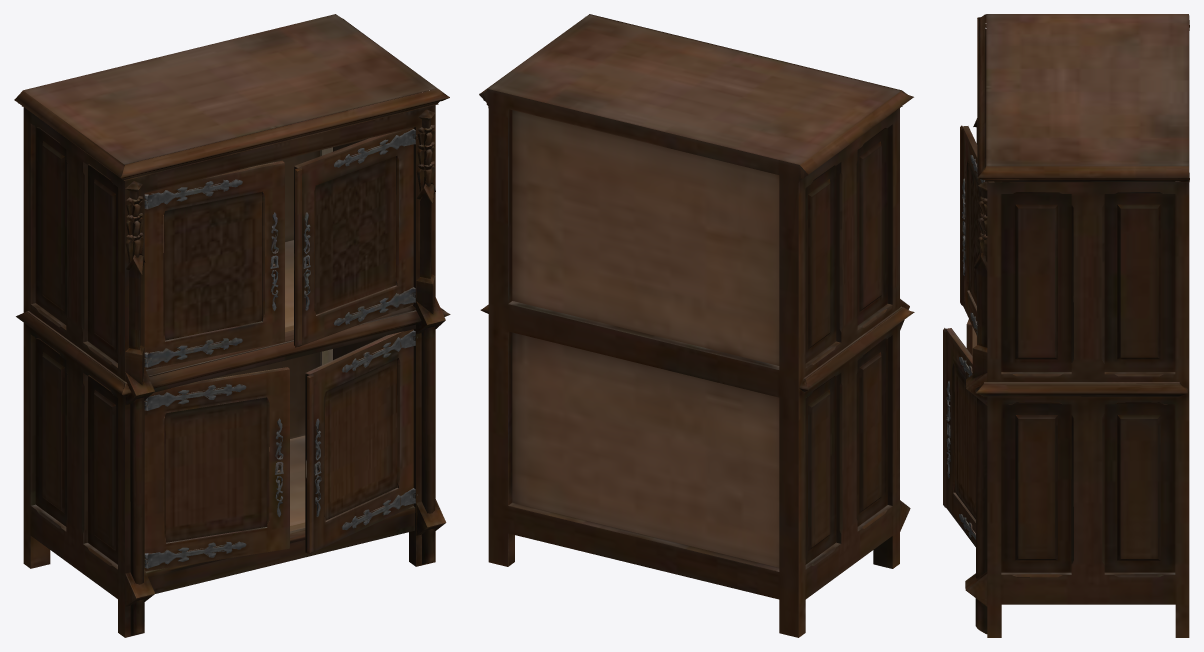
The model's file is ph_GothicCabinet_01.glb.
3 renders of one model, left to right at view 1: azimuth 30°, elevation 25°; view 2: azimuth 150°, elevation 25°; view 3: azimuth 270°, elevation 25°, orthographic.
Visible parts, largest first — view 1: GothicCabinet_01_cabinet; view 2: GothicCabinet_01_cabinet; view 3: GothicCabinet_01_cabinet.
Part boxes in pixels (x1,y1,x2,y2): GothicCabinet_01_cabinet: (14, 14, 450, 637); GothicCabinet_01_cabinet: (479, 14, 914, 637); GothicCabinet_01_cabinet: (943, 14, 1189, 637).
Size of the model in its own units: 1.72 by 2.36 by 1.12.
1 material, 1 textured.
